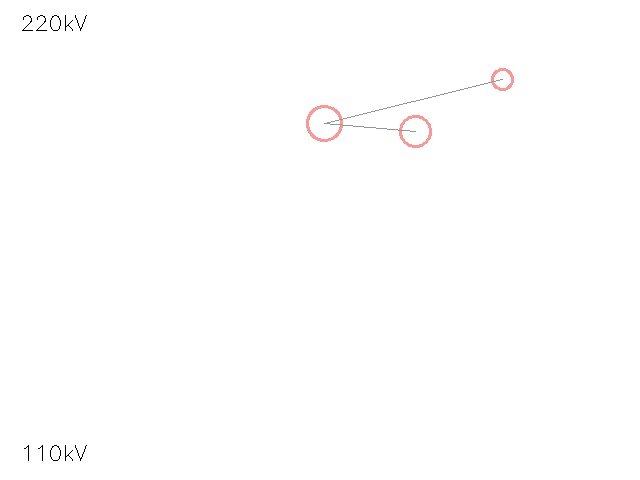fuse: (384, 100, 446, 162)
load_break_switch: (290, 89, 358, 157)
surge_arrester: (481, 58, 523, 100)
